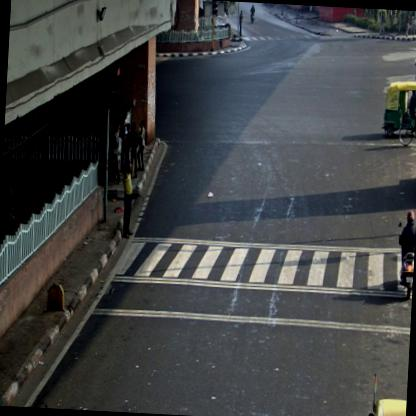motorcycle: (396, 209, 416, 302), (397, 86, 415, 151), (247, 4, 256, 24), (411, 48, 415, 87)
